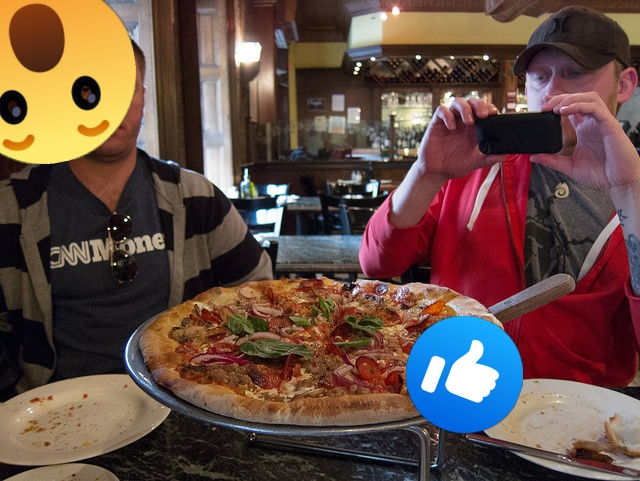like: (406, 316, 523, 433)
wow: (0, 0, 136, 164)
